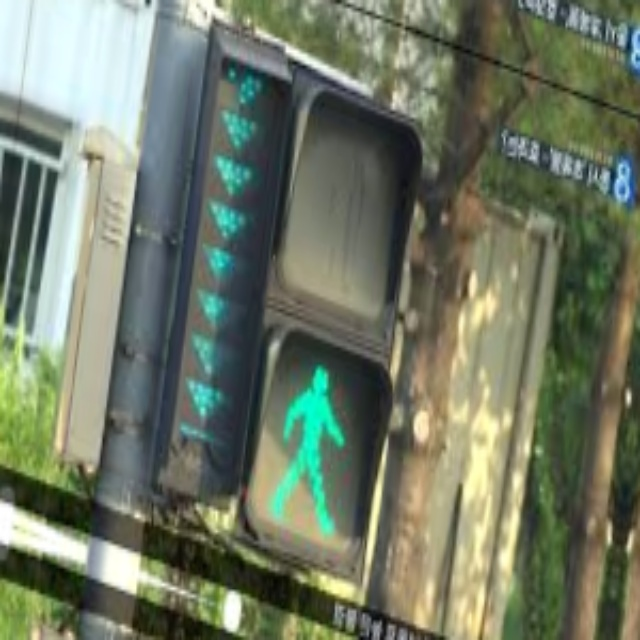green_light: (267, 348, 362, 539), (190, 279, 250, 339), (186, 324, 242, 383), (208, 147, 261, 208), (197, 238, 254, 292), (185, 370, 237, 428), (216, 101, 268, 159), (206, 196, 257, 252)
